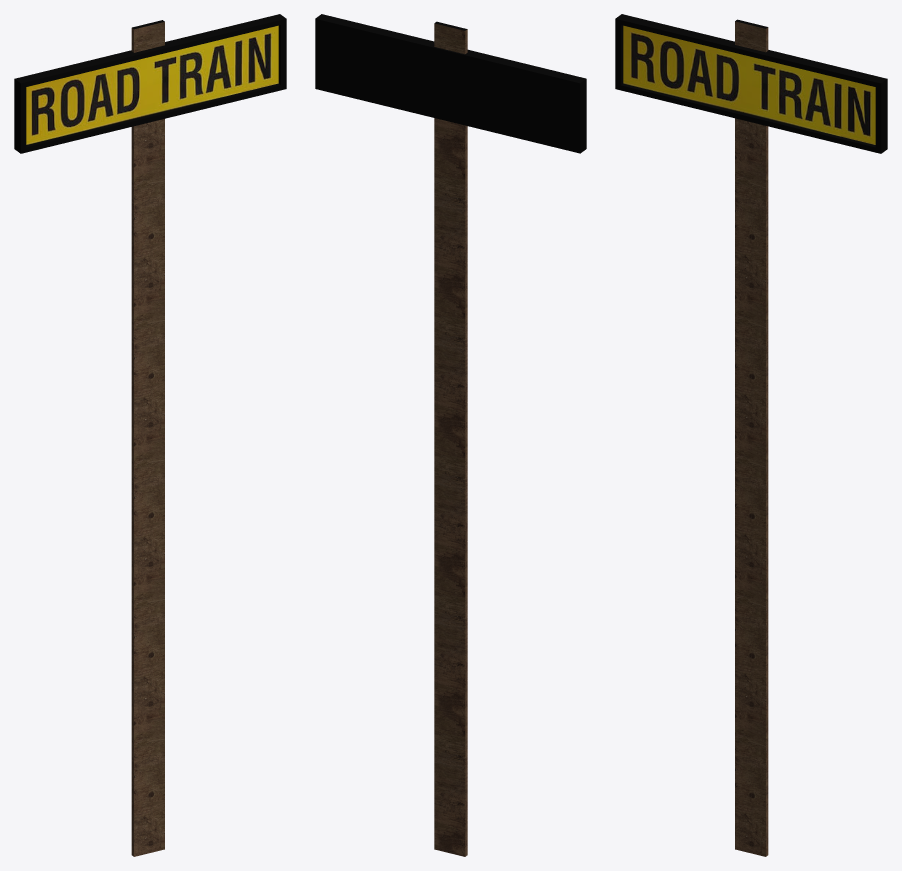
Rendered from blendSign.obj.
The picture shows the model from 3 angles, left to right: view 1: azimuth 30°, elevation 25°; view 2: azimuth 150°, elevation 25°; view 3: azimuth 330°, elevation 25°; orthographic projection.
Visible parts, largest first — view 1: sign:Sign_Malla; view 2: sign:Sign_Malla; view 3: sign:Sign_Malla.
Boxes of the visible parts, <box> form: sign:Sign_Malla: <box>14,14,286,856</box>; sign:Sign_Malla: <box>315,14,586,856</box>; sign:Sign_Malla: <box>615,14,887,856</box>.
Size of the model in its own units: 0.2704 by 0.8051 by 0.0113.
Materials: 3 (2 with a texture image).
